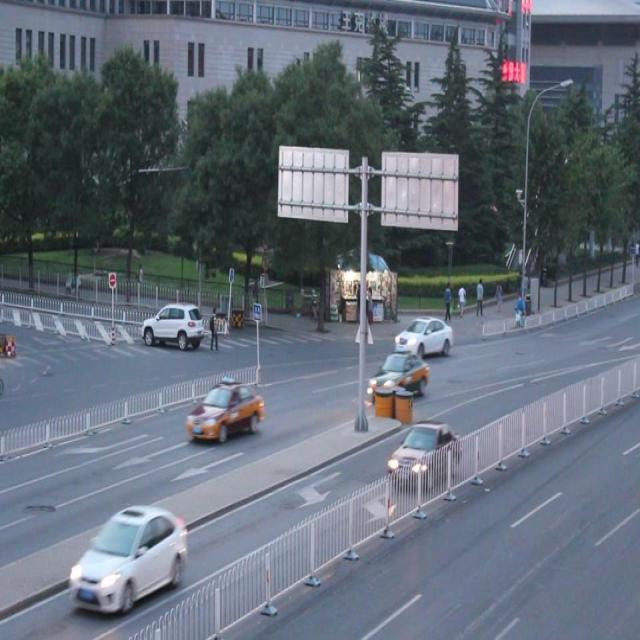car: (71, 506, 186, 613), (186, 376, 264, 443), (387, 421, 461, 487), (368, 350, 430, 400), (140, 302, 202, 350), (396, 312, 452, 356)
